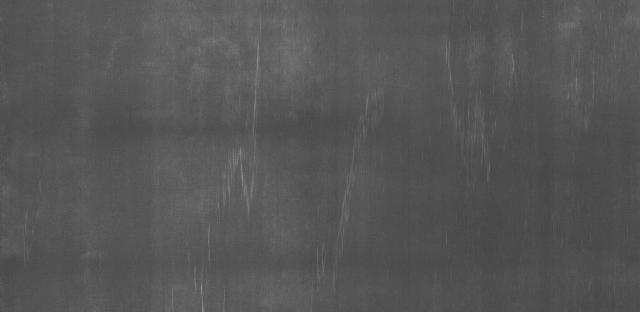silk_spot: (189, 25, 267, 219), (308, 80, 388, 240), (422, 42, 502, 163), (541, 15, 606, 128)
